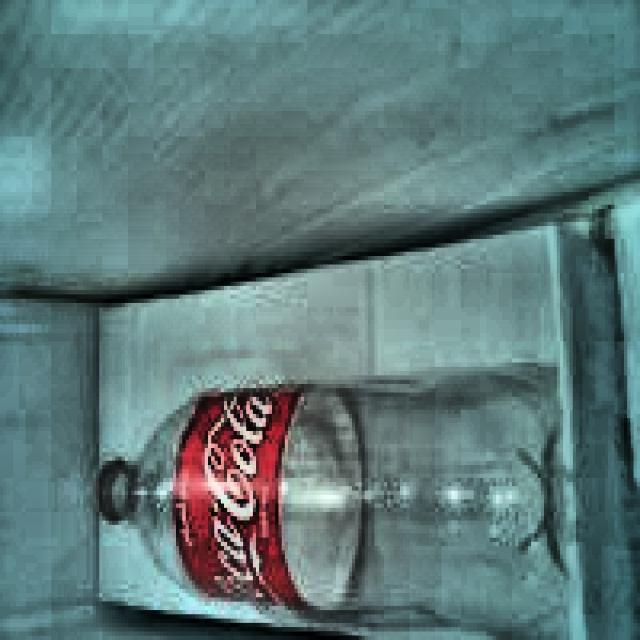plastic bottle: (102, 380, 570, 640)
